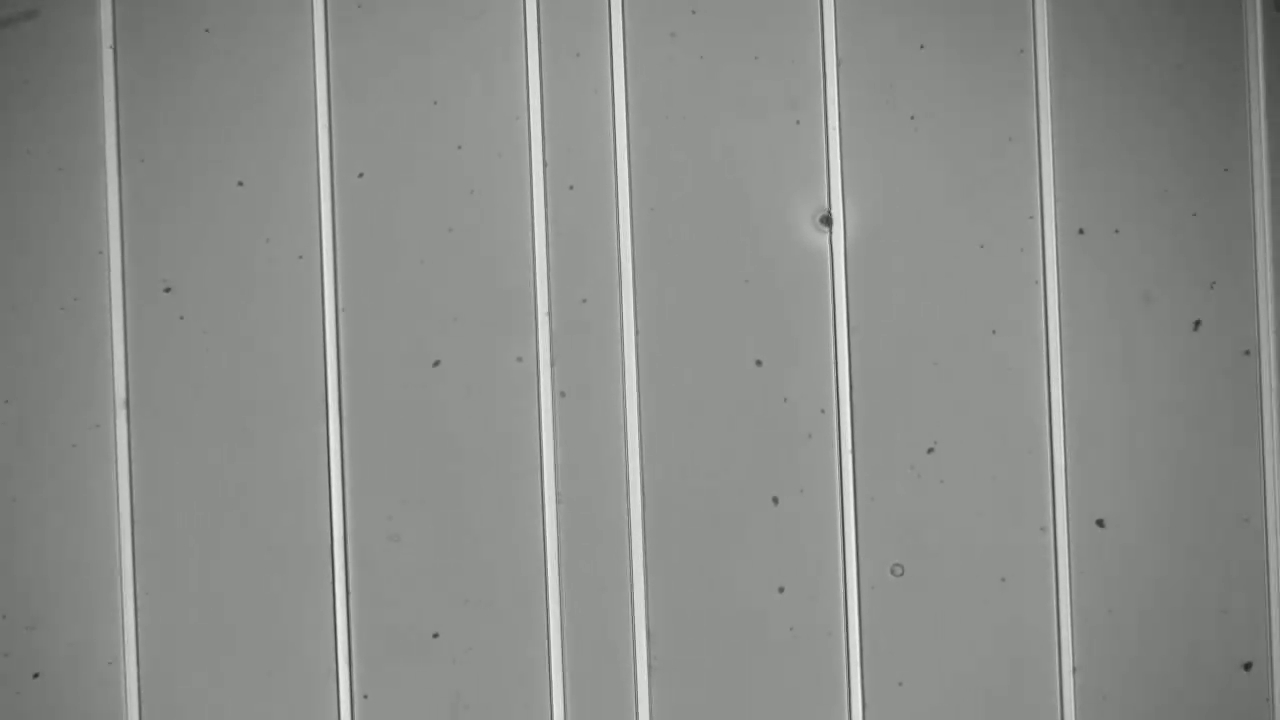stains_enbedded: (810, 194, 854, 241)
